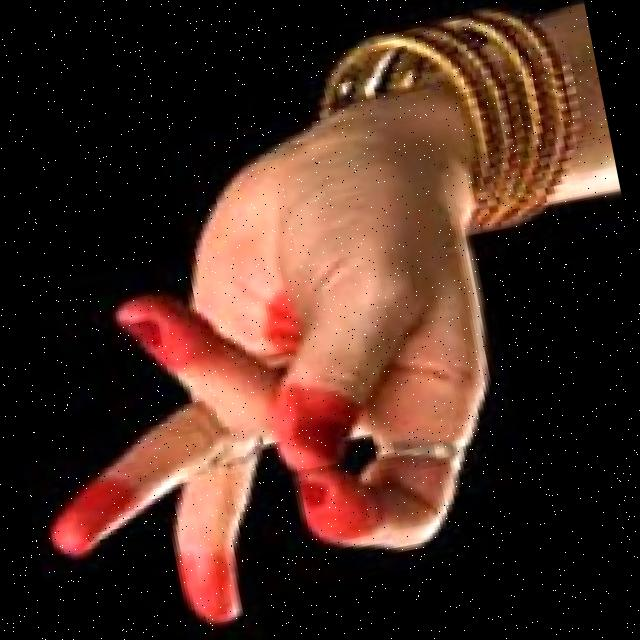Katakamukha: (0, 67, 538, 640)
